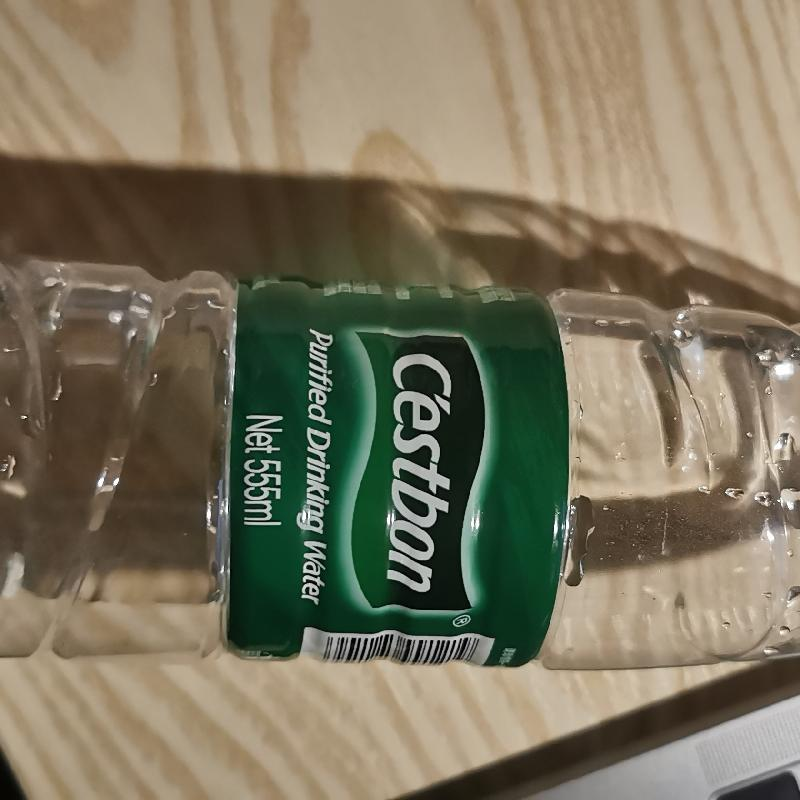bottles: (0, 241, 799, 675)
